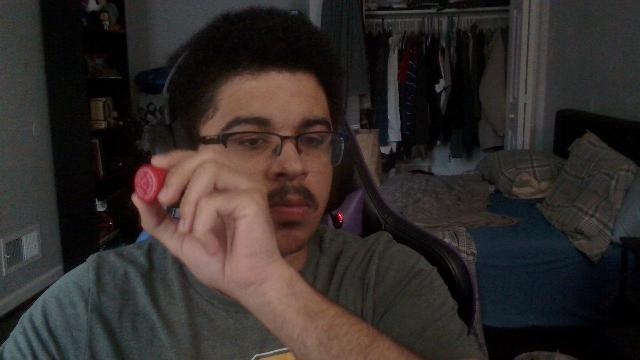cap: (134, 165, 168, 203)
